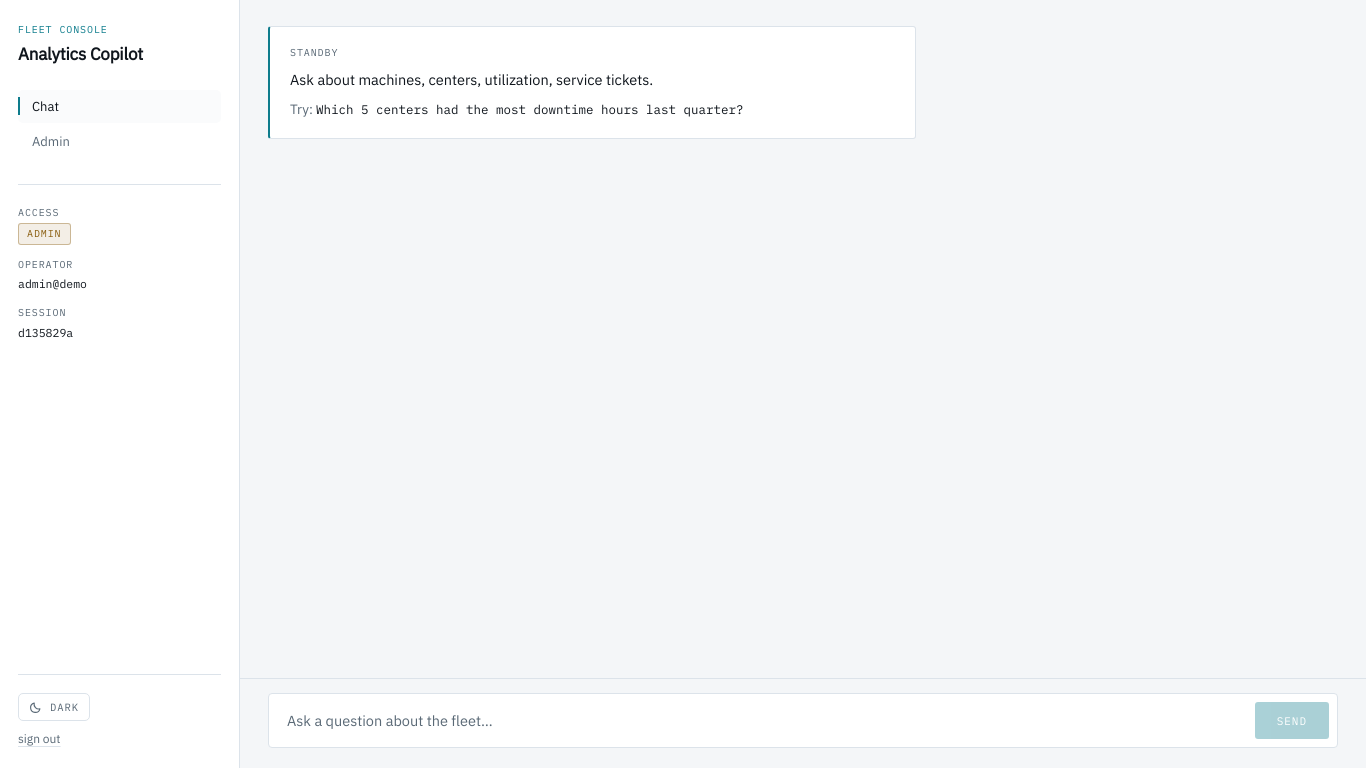
Test case: the console renders overview numbers from a mocked fetch
The image size is (1366, 768).
Click the button "Admin": [120, 141] box [18, 125, 221, 158]
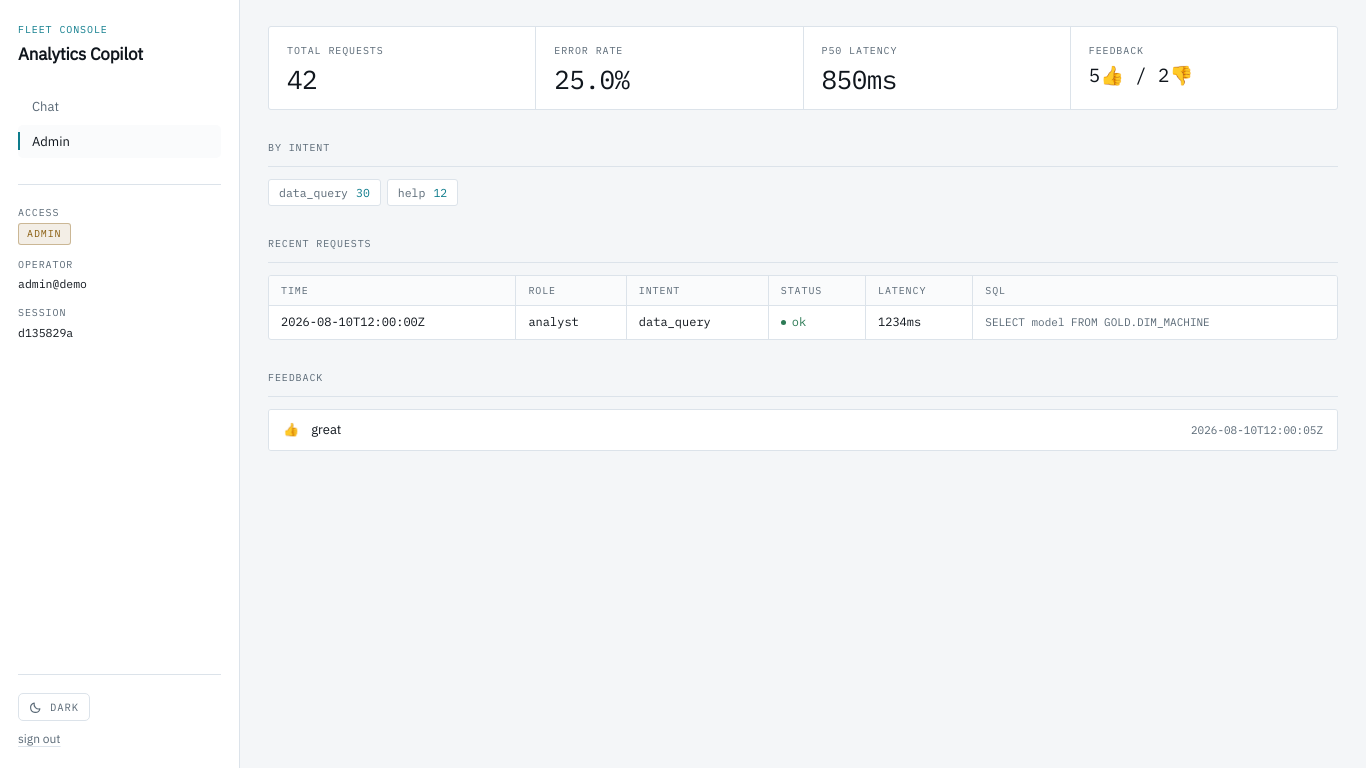
Check: the text "42" is shown, box [287, 62, 317, 96]
Check: the text "25.0%" is shown, box [554, 62, 630, 96]
Check: the text "850ms" is shown, box [822, 62, 897, 96]
